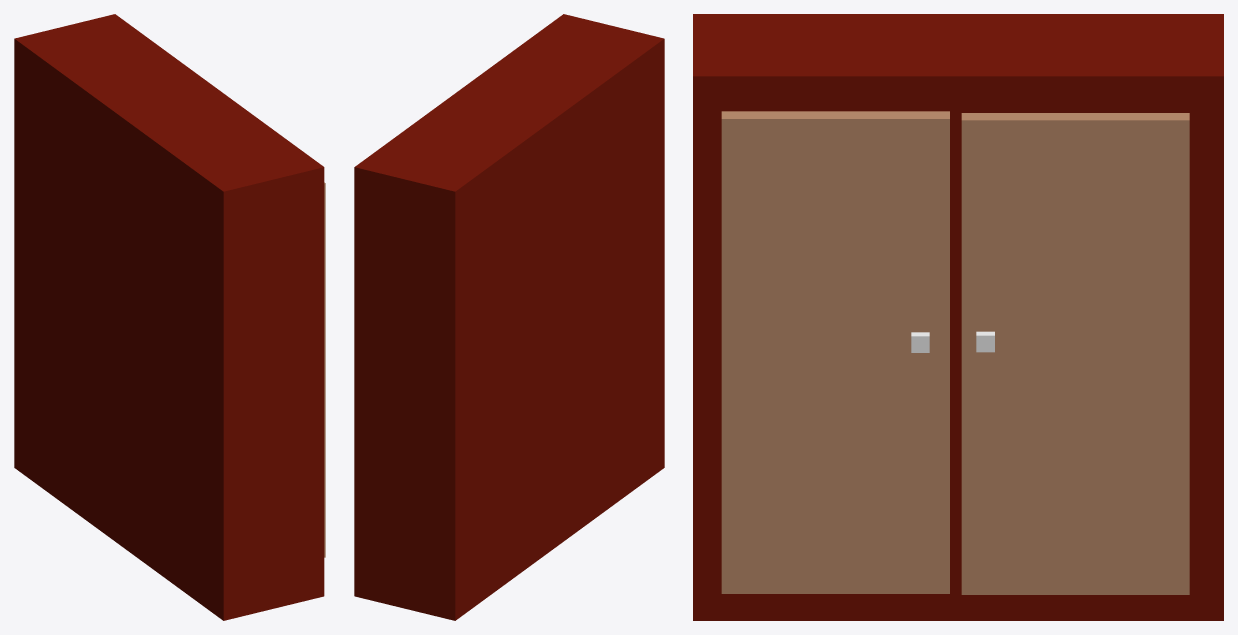
The model's file is Schrank_2.fbx.
3 views of the same model, side by side, from view 1: azimuth 30°, elevation 25°; view 2: azimuth 150°, elevation 25°; view 3: azimuth 270°, elevation 25° (orthographic). The views are drawn at different scales.
Parts seen in each view (by area): view 1: Cube, Würfel; view 2: Cube; view 3: Würfel, Würfel.001, Cube.
Boxes of the visible parts, <box> form: Cube: <box>14,14,324,620</box>; Würfel: <box>324,182,325,557</box>; Cube: <box>354,14,664,620</box>; Würfel: <box>721,111,949,593</box>; Würfel.001: <box>961,113,1189,594</box>; Cube: <box>693,14,1223,620</box>.
Bounding box in the file's own units: 469 × 1601 × 1415.
